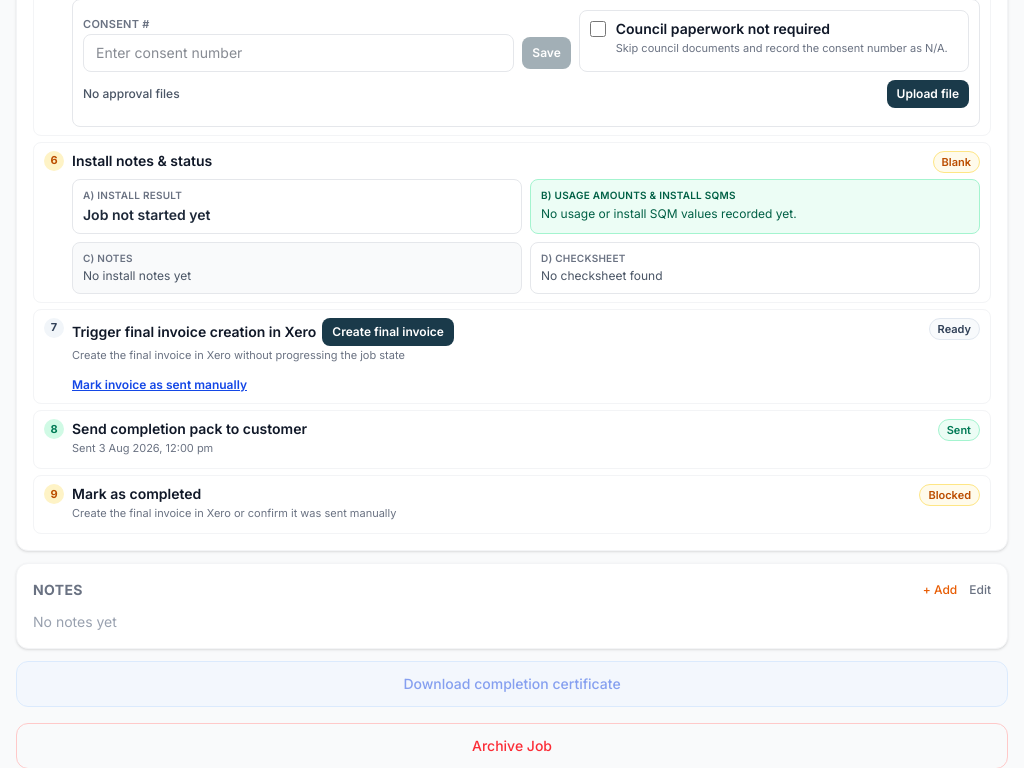
Test: allows a confirmed manually sent invoice to unlock completion without a Xero record
The width and height of the screenshot is (1024, 768).
(page scrolled)
Click the button "Mark invoice as sent manually".
click(160, 385)  # box x1=72 y1=377 x2=247 y2=393
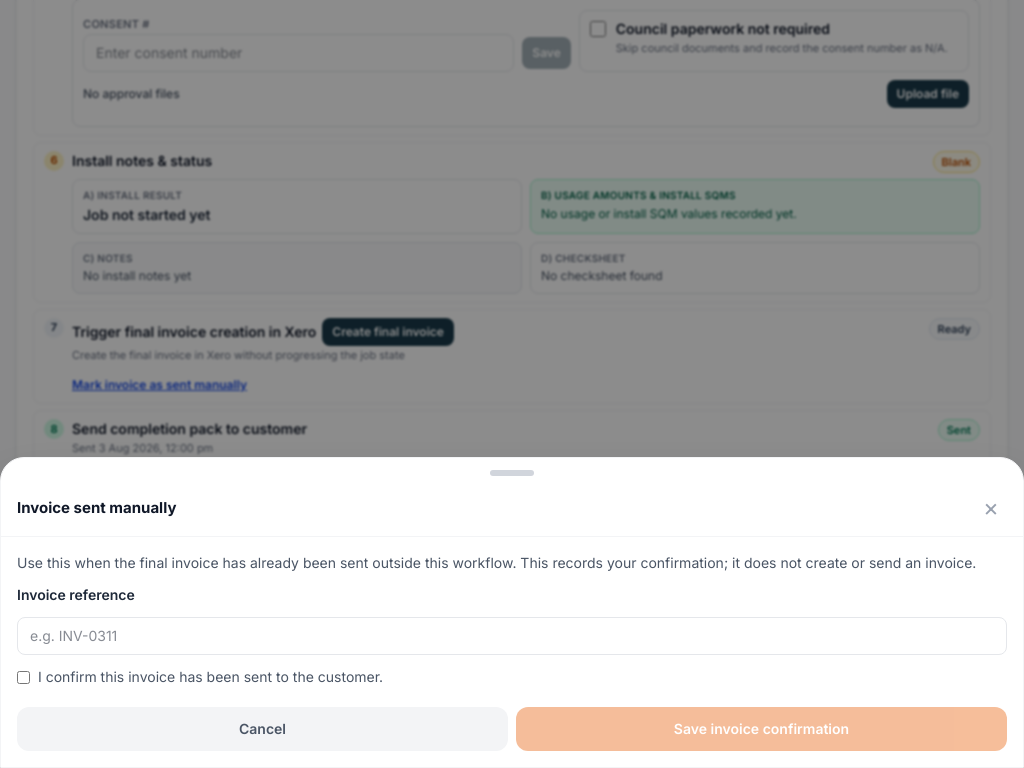
Type "MAN-20" into the field labelled "Invoice reference".
click(512, 636); type("MAN-20")  # box x1=17 y1=617 x2=1007 y2=655
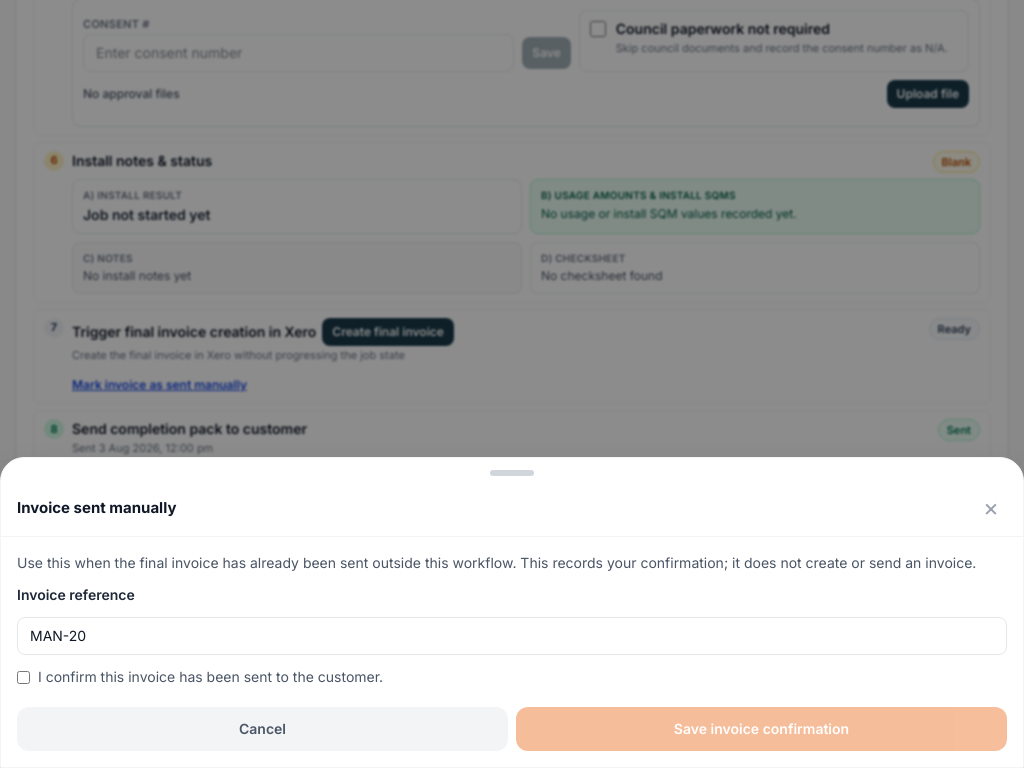
expect the button "Save invoice confirmation" is disabled: met, box x1=516 y1=707 x2=1007 y2=751
Click the checkbox labelled "I confirm this invoice has been sent to the customer.".
click(24, 678)  # box x1=17 y1=671 x2=30 y2=684
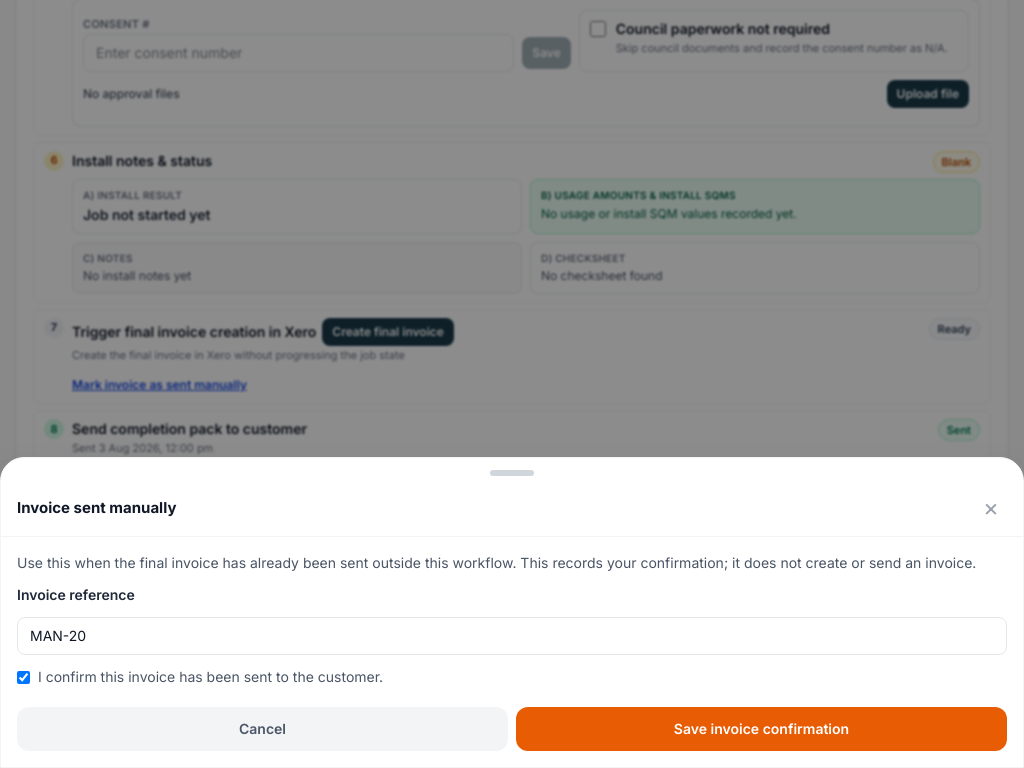
Click the button "Save invoice confirmation".
click(762, 729)  # box x1=516 y1=707 x2=1007 y2=751
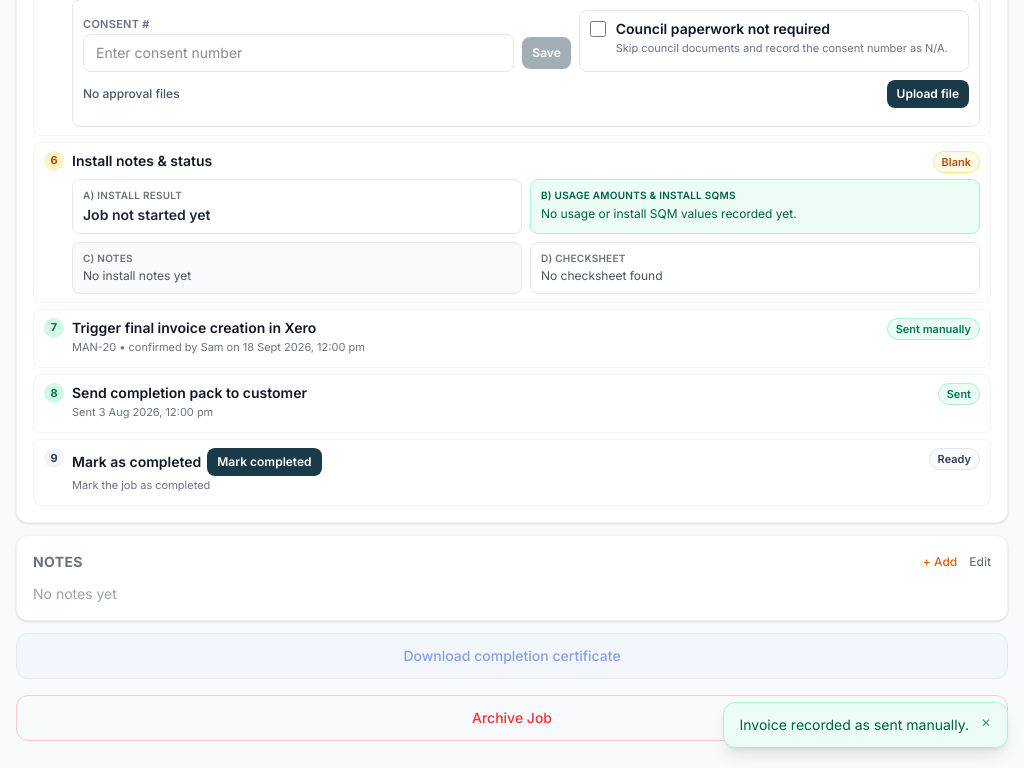
expect the button "Mark completed" is shown: met, box x1=207 y1=448 x2=322 y2=476
expect the text "Sent manually" is shown: met, box x1=887 y1=318 x2=980 y2=340
